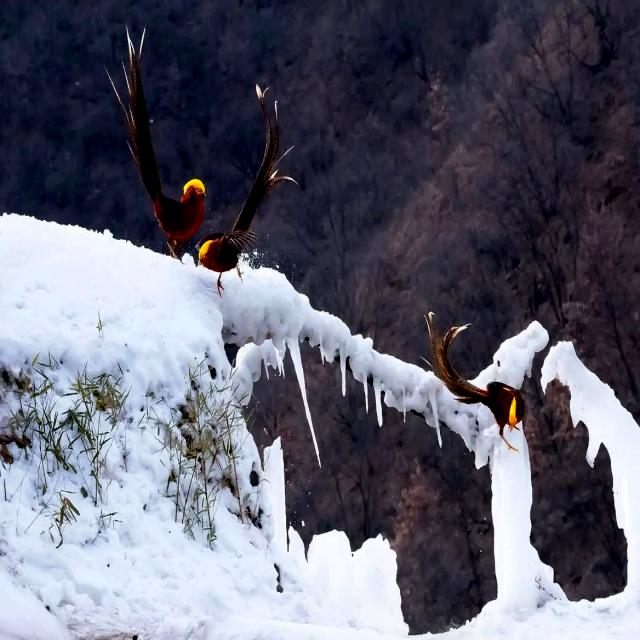Chrysolophus pictus feather: (104, 23, 161, 202), (232, 82, 298, 232)
